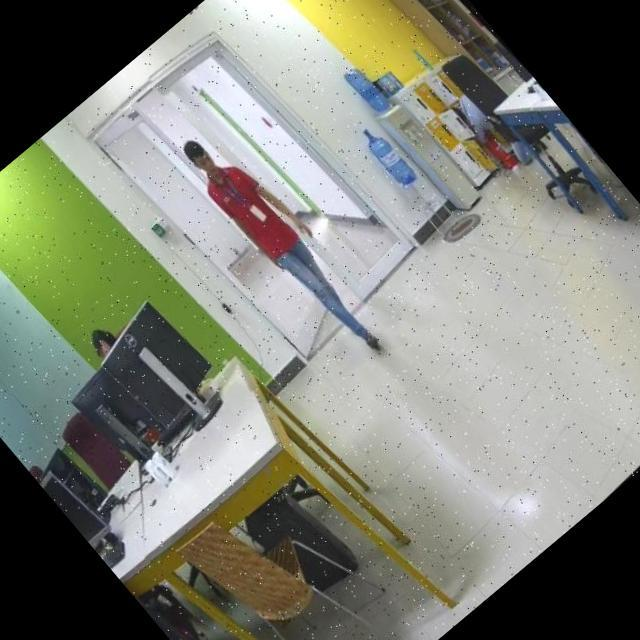person: (168, 109, 406, 375)
